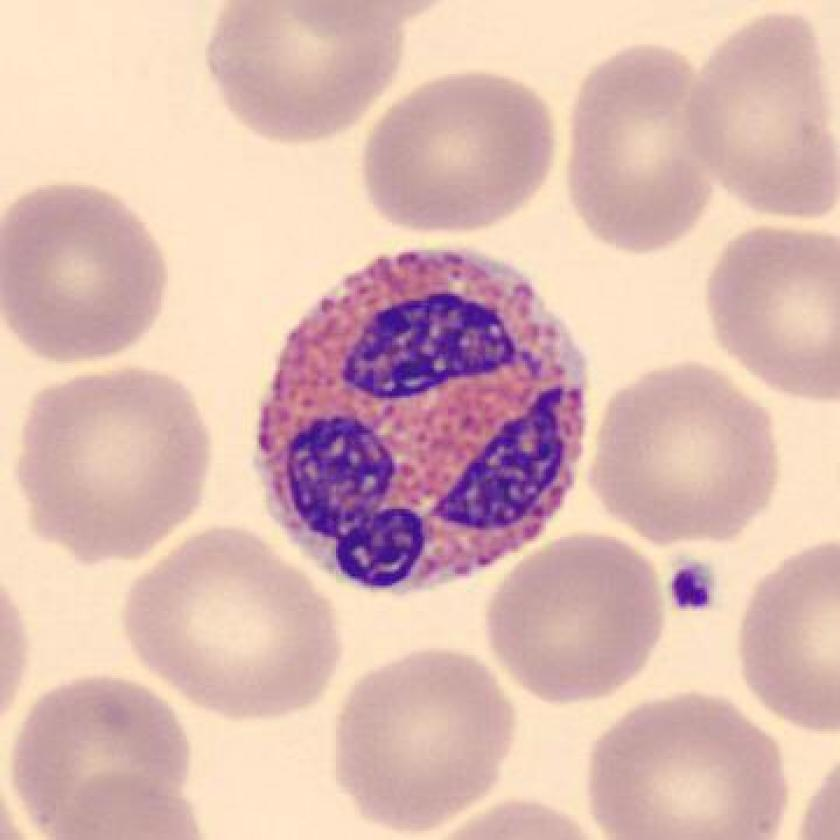eosinophil: (241, 233, 608, 608)
